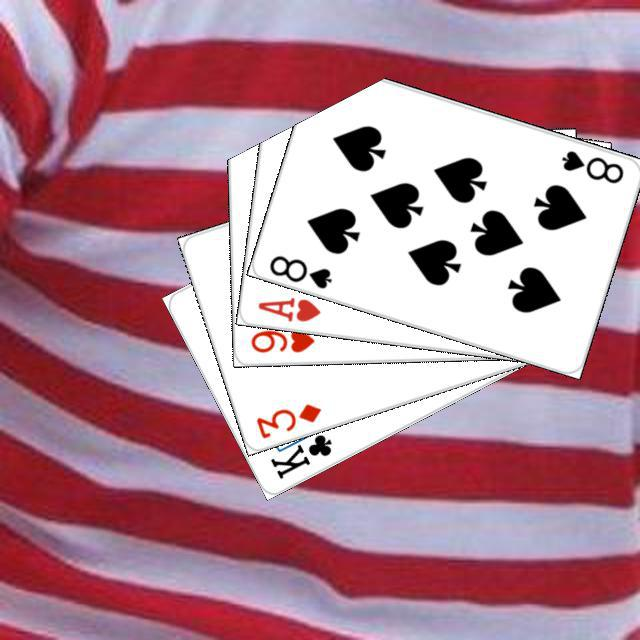3d: (251, 398, 323, 440)
8s: (264, 250, 334, 291), (556, 145, 626, 186)
9h: (246, 324, 317, 355)
Ah: (253, 293, 323, 324)
Kc: (265, 418, 334, 481)
